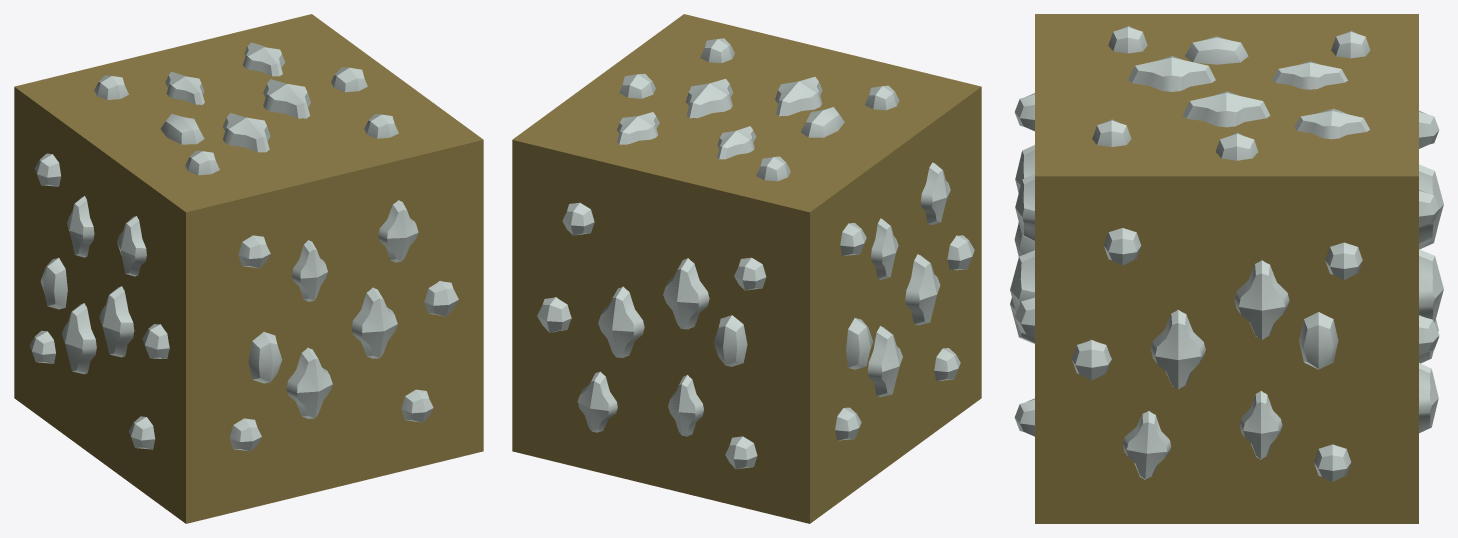
Rendered from quaternius-cube-world-block-diamond.glb.
3 renders of one model, left to right at view 1: azimuth 30°, elevation 25°; view 2: azimuth 150°, elevation 25°; view 3: azimuth 270°, elevation 25°, orthographic. The views are drawn at different scales.
Parts seen in each view (by area): view 1: Block_Diamond; view 2: Block_Diamond; view 3: Block_Diamond.
Part boxes in pixels (x1,y1,x2,y2): Block_Diamond: [14, 14, 483, 523]; Block_Diamond: [512, 14, 981, 523]; Block_Diamond: [1010, 14, 1443, 523].
Size of the model in its own units: 2.26 by 2.26 by 2.26.
Materials: 1 (1 with a texture image).
